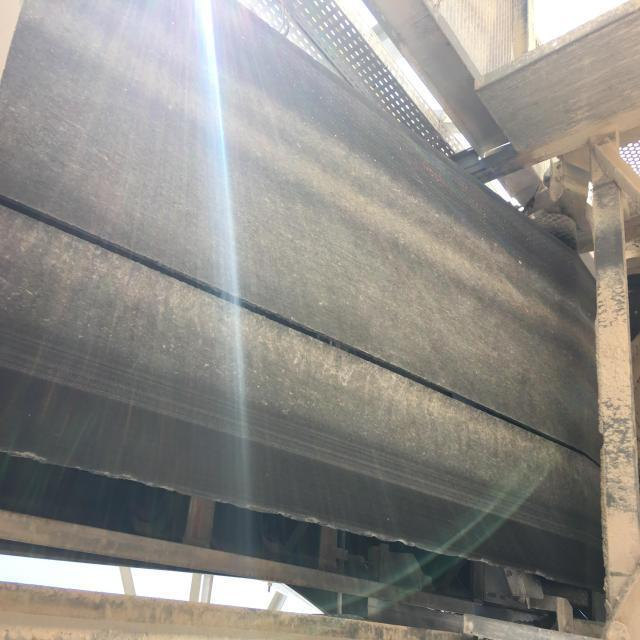Tear: (16, 178, 592, 472)
